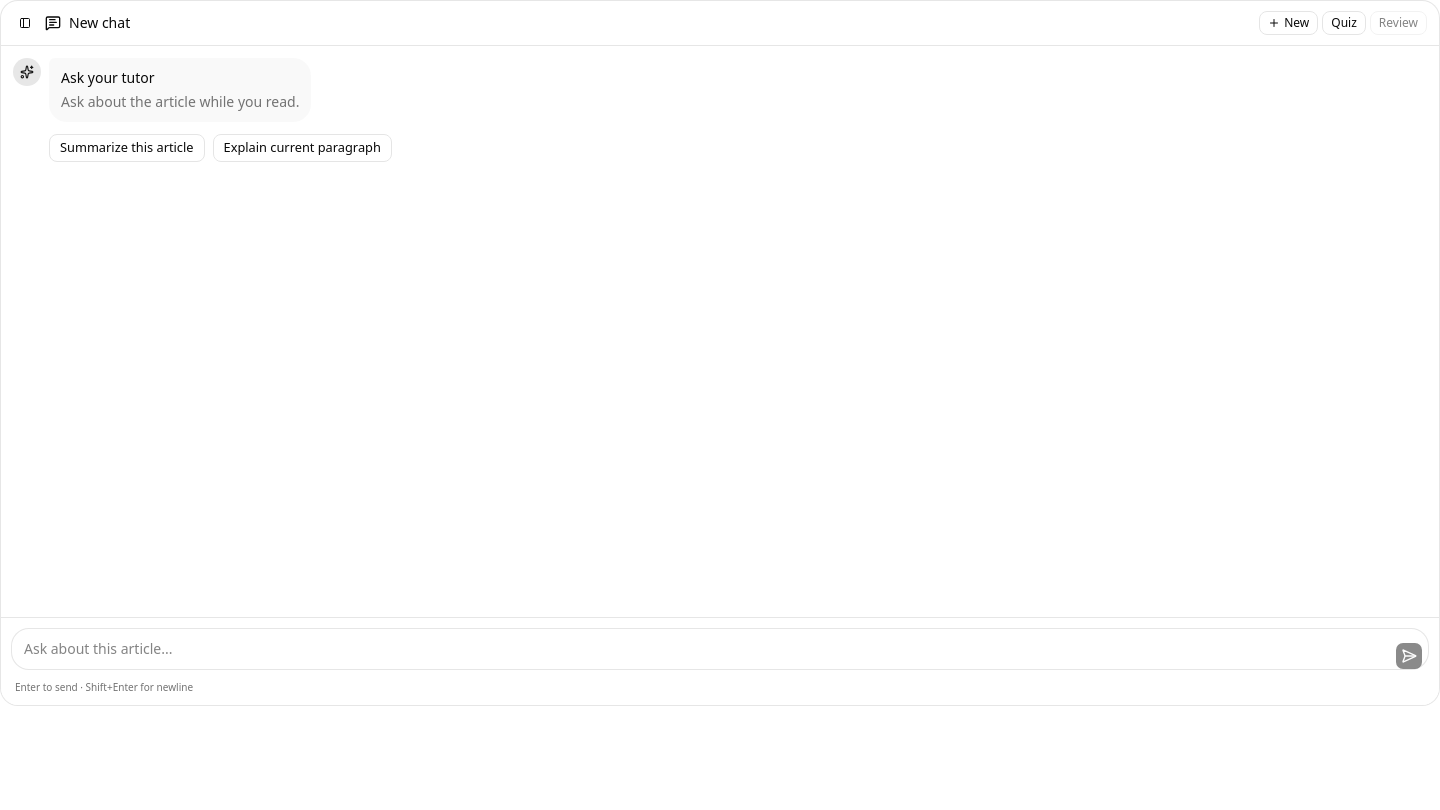
Test case: TutorPanel › sends free-form questions to the active session
Type "解释这篇文章" into the text box with placeholder "Ask about this article..." at (720, 649), box left=11, top=628, right=1429, bottom=670
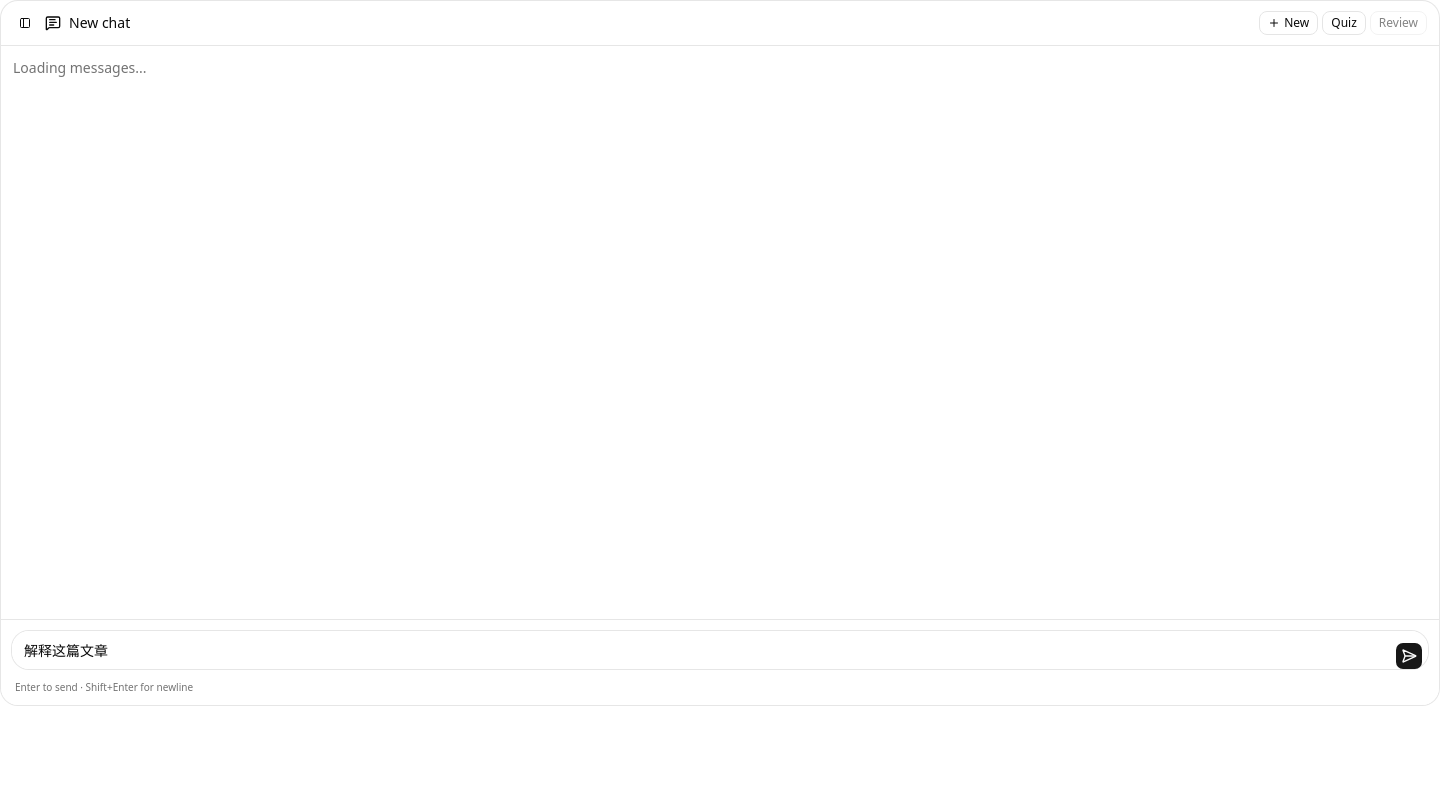
Click the button named "Send" at (1409, 656), box left=1395, top=642, right=1423, bottom=670
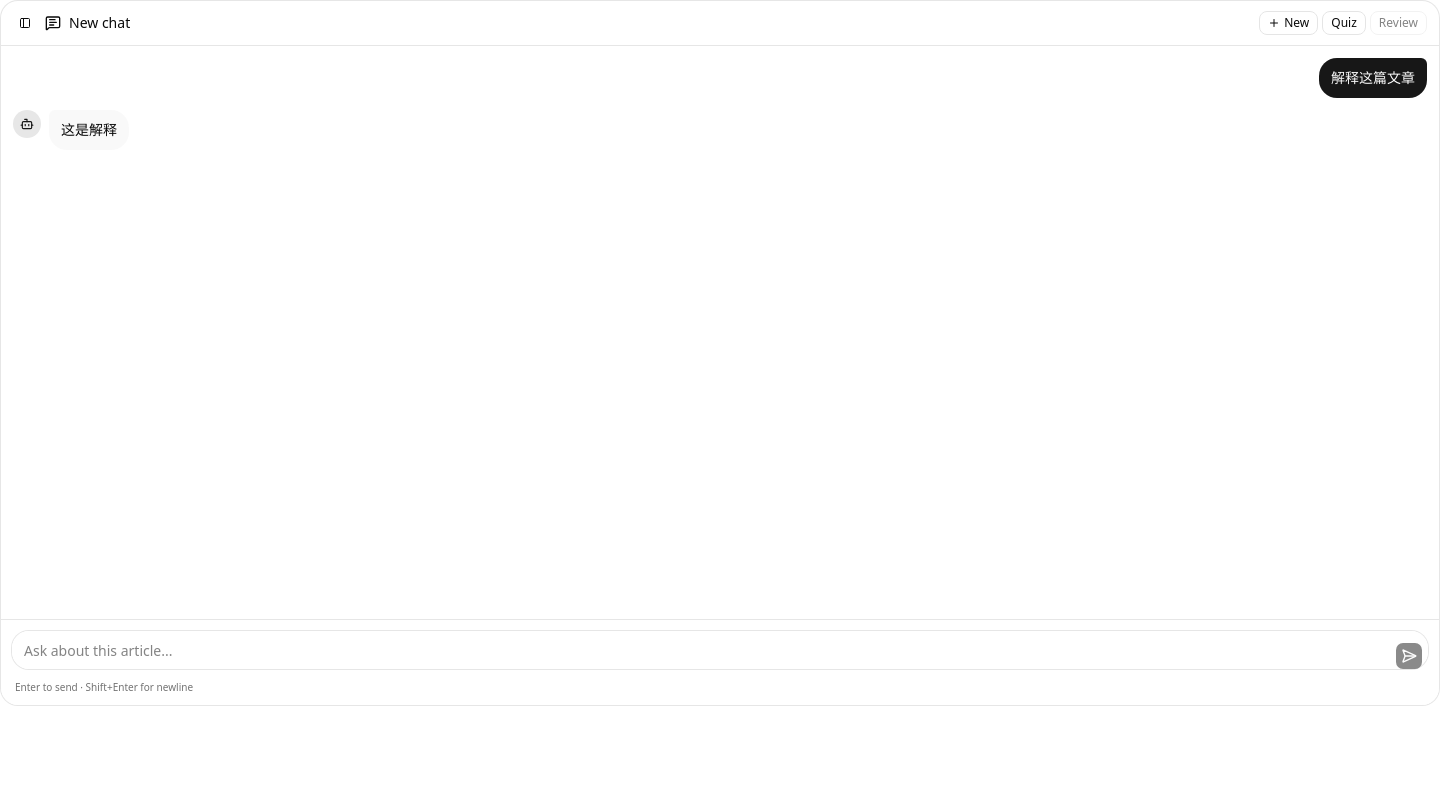
Expected: the text "这是解释" is shown, left=61, top=118, right=117, bottom=142
